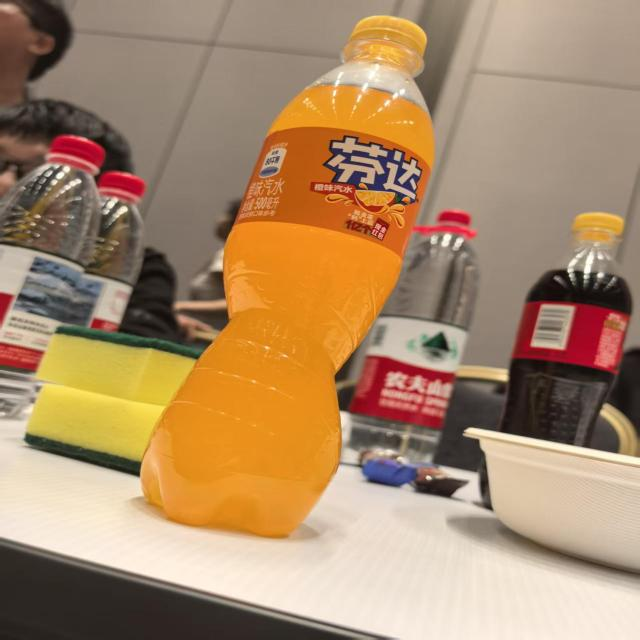orange: (307, 134, 431, 237)
